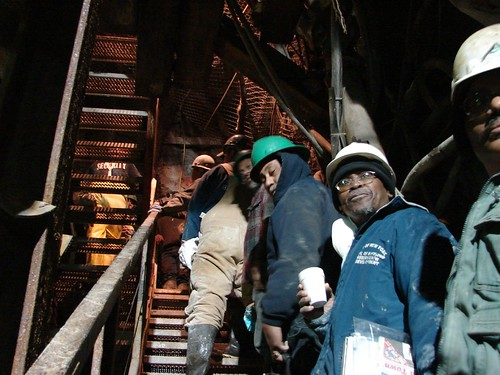person hardhat: (316, 143, 458, 372), (251, 133, 339, 356), (446, 23, 500, 375), (197, 135, 248, 362), (160, 153, 216, 271), (236, 149, 271, 307)
